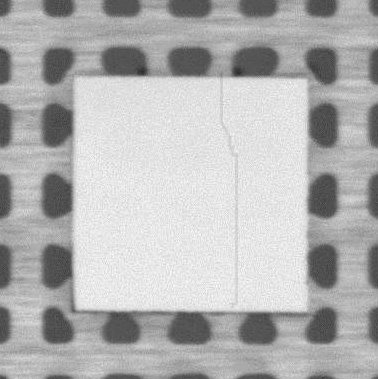DIE_CRACK: (219, 76, 241, 308)
